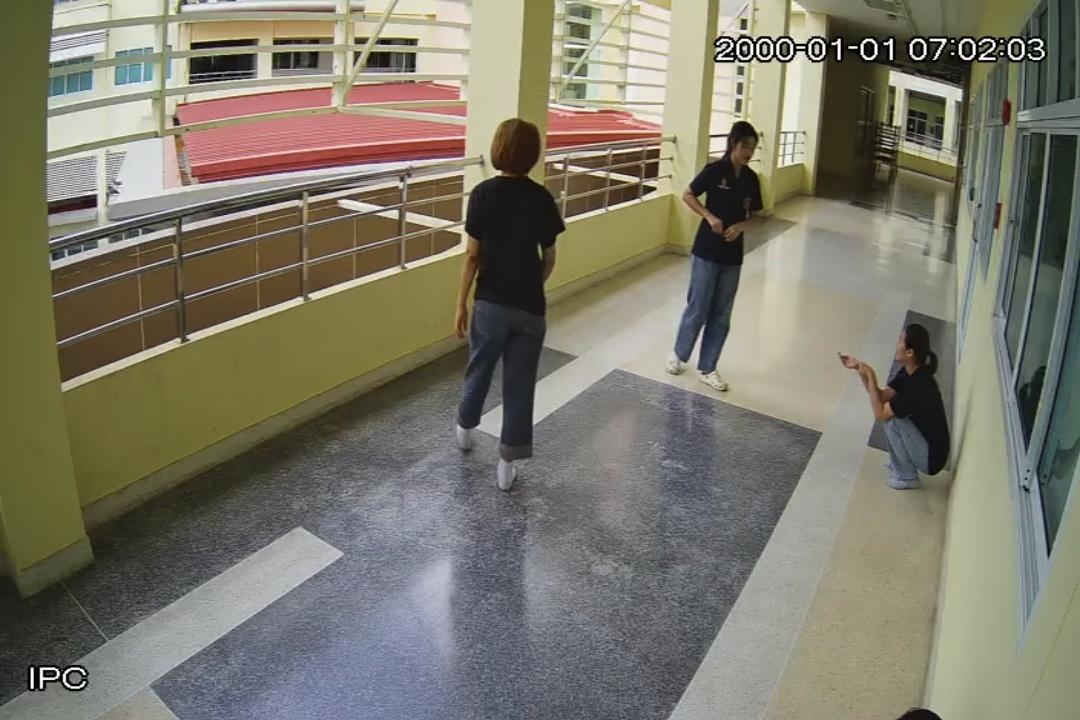normal: (450, 114, 560, 504), (662, 118, 768, 392), (837, 312, 953, 498)
